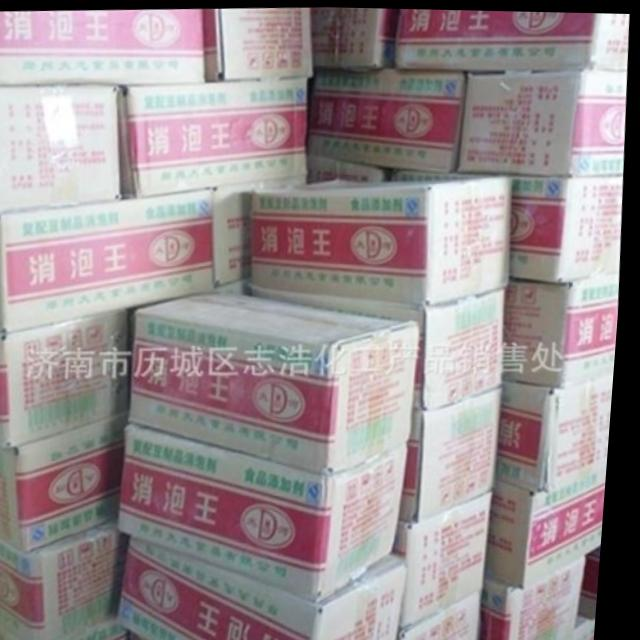box: (134, 289, 425, 473), (125, 422, 414, 600), (254, 174, 512, 305), (0, 188, 219, 334), (253, 284, 510, 408), (125, 536, 414, 640), (118, 75, 310, 196), (0, 410, 133, 554), (0, 310, 134, 445), (460, 68, 628, 175), (0, 520, 139, 640), (0, 9, 206, 86), (0, 86, 124, 213), (309, 71, 465, 170), (492, 463, 614, 586), (502, 369, 619, 489), (396, 7, 629, 67), (508, 268, 623, 386), (400, 489, 499, 626), (406, 385, 506, 519), (511, 172, 625, 283), (216, 174, 310, 286), (488, 551, 593, 640), (202, 7, 315, 81), (309, 6, 396, 68), (409, 589, 489, 640), (309, 153, 385, 185), (65, 615, 138, 640), (589, 544, 609, 616), (0, 618, 29, 640)
